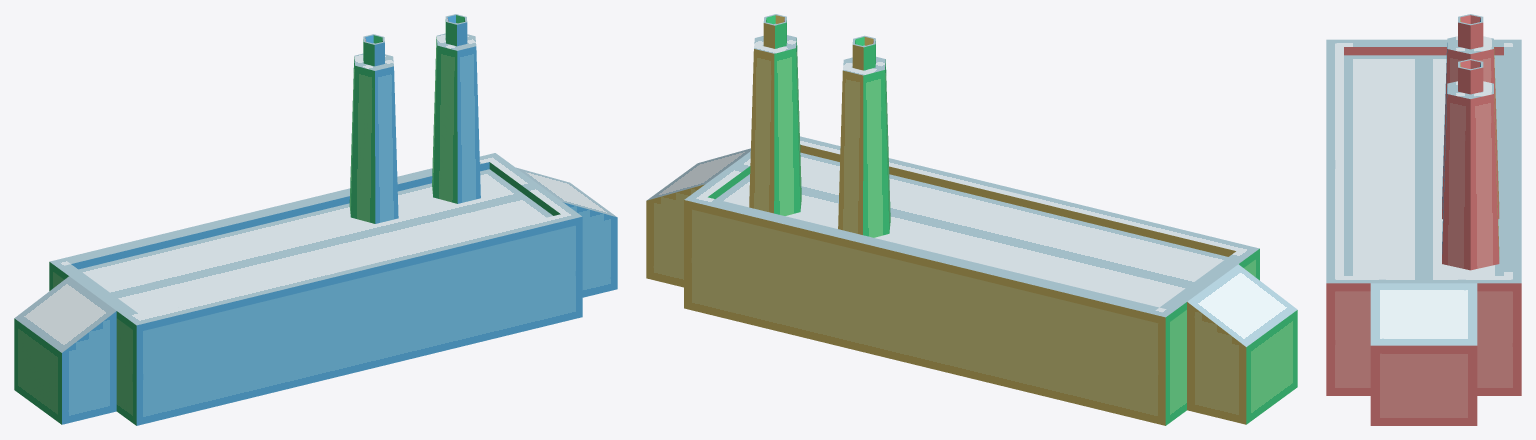
The model's file is off_site_building.gltf.
3 views of the same model, side by side, from view 1: azimuth 30°, elevation 25°; view 2: azimuth 150°, elevation 25°; view 3: azimuth 270°, elevation 25° (orthographic). The views are drawn at different scales.
Visible parts, largest first — view 1: cuboid; view 2: cuboid; view 3: cuboid.
Boxes of the visible parts, box(x1,y1,x2,y2) form: cuboid: box(14, 14, 617, 425); cuboid: box(646, 14, 1297, 425); cuboid: box(1326, 14, 1521, 425).
Size of the model in its own units: 5.06 by 2.31 by 1.38.
1 material, 1 textured.
